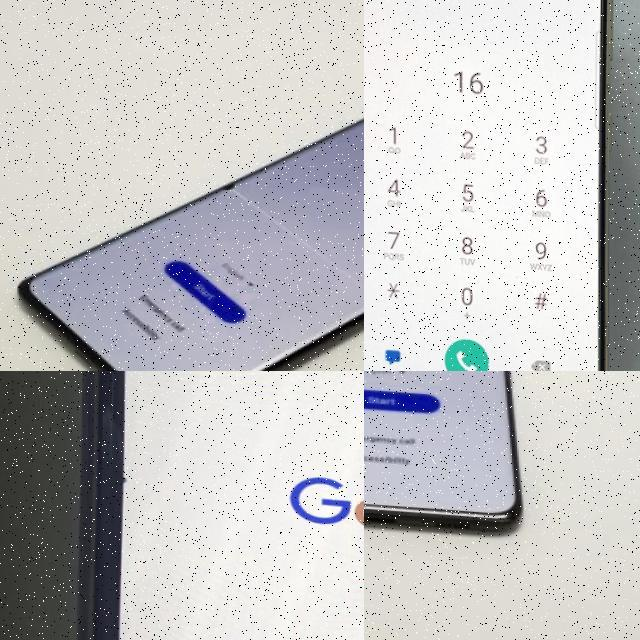dead pixel: (84, 440, 165, 507), (199, 167, 251, 196)
